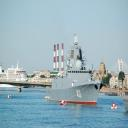Fragata: (46, 35, 104, 107)
